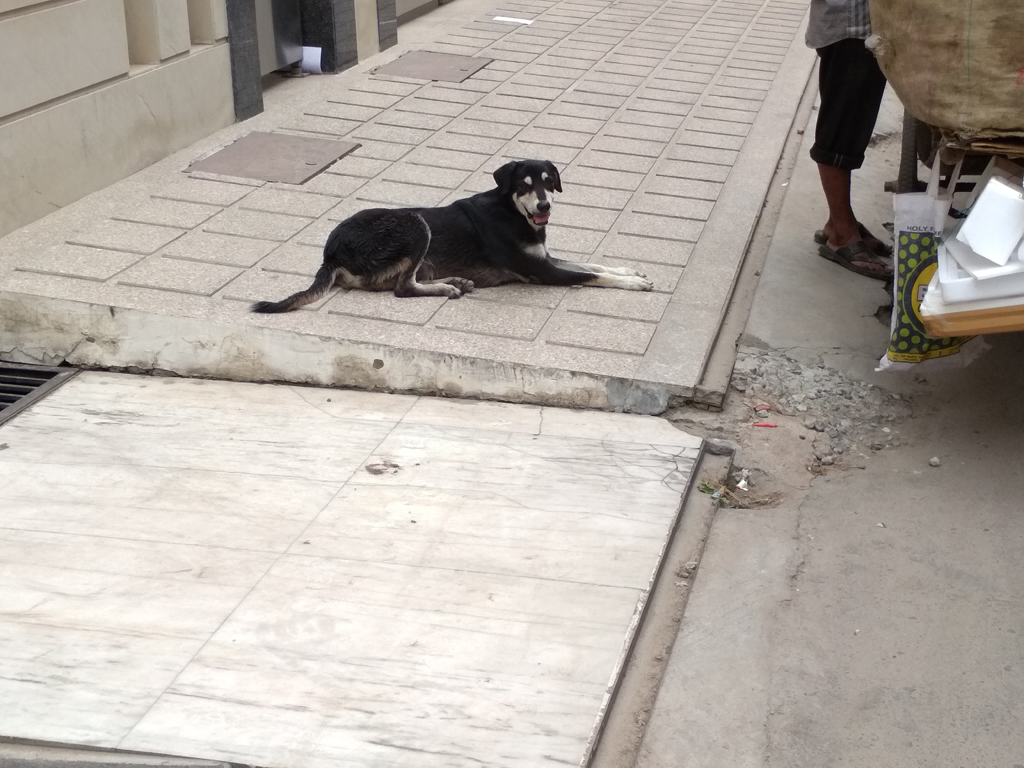dog: (247, 159, 658, 313)
